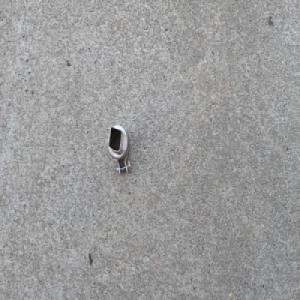MetalPart: (105, 123, 133, 177)
